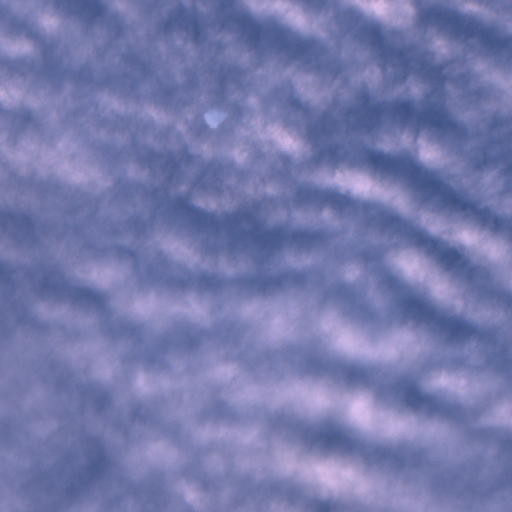Iceberg: (204, 108, 228, 128)
